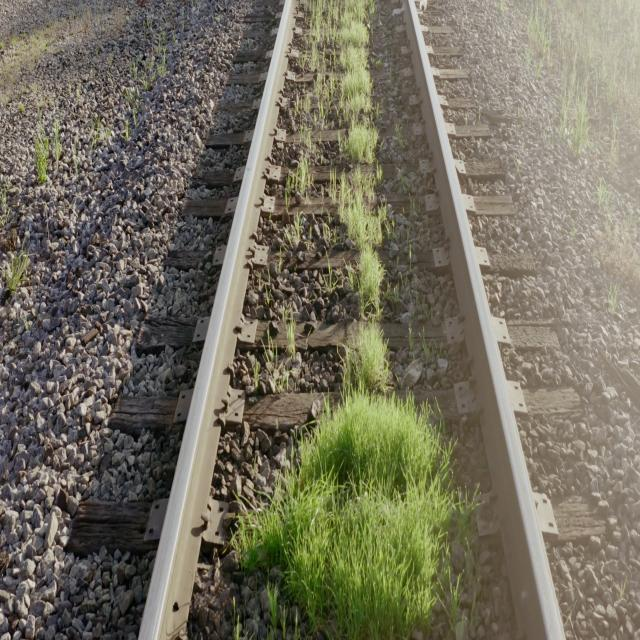Plant: (238, 0, 471, 638), (240, 391, 458, 638), (290, 144, 315, 193), (266, 584, 279, 631), (286, 216, 301, 247), (289, 320, 296, 353)
